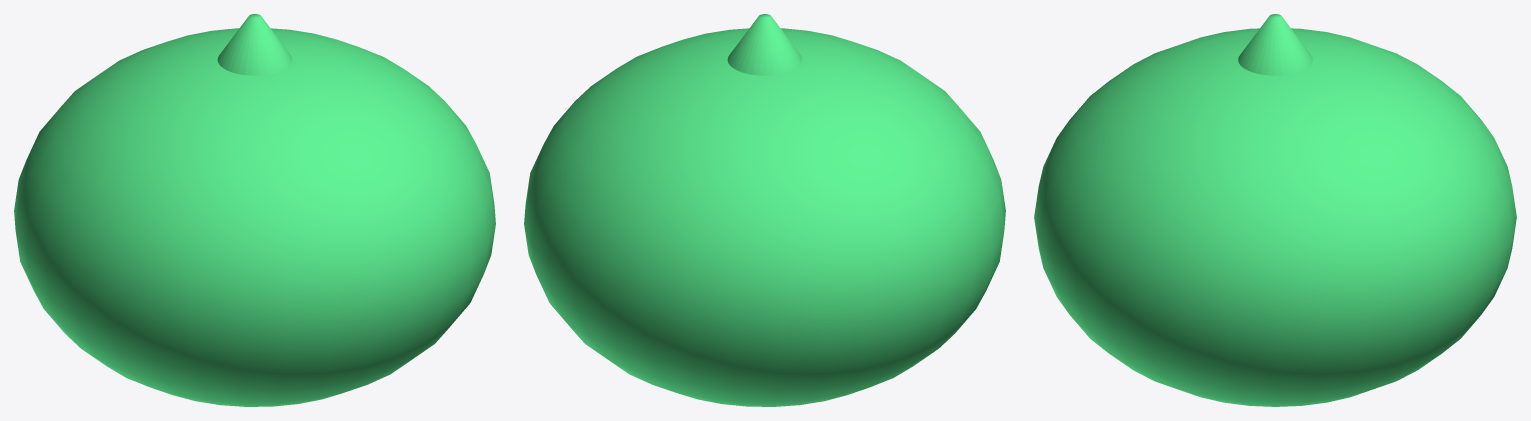
The model's file is Slime_Verde_Epico.fbx.
3 renders of one model, left to right at view 1: azimuth 30°, elevation 25°; view 2: azimuth 150°, elevation 25°; view 3: azimuth 270°, elevation 25°, orthographic.
Visible parts, largest first — view 1: Slime_Body, Cone; view 2: Slime_Body, Cone; view 3: Slime_Body, Cone.
Part boxes in pixels (x1=…): Slime_Body: x1=14, y1=28, x2=495, y2=406; Cone: x1=217, y1=14, x2=292, y2=75; Slime_Body: x1=524, y1=28, x2=1005, y2=406; Cone: x1=727, y1=14, x2=802, y2=75; Slime_Body: x1=1034, y1=28, x2=1516, y2=406; Cone: x1=1238, y1=14, x2=1312, y2=75.
Size of the model in its own units: 338 by 278 by 338.
